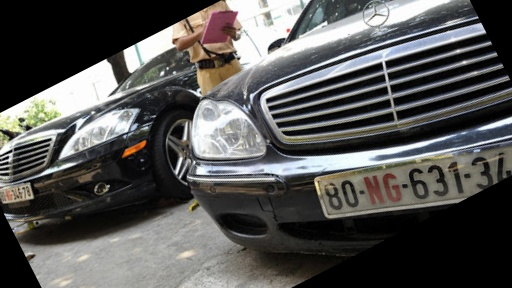plate: (296, 157, 512, 221), (1, 182, 36, 205)
